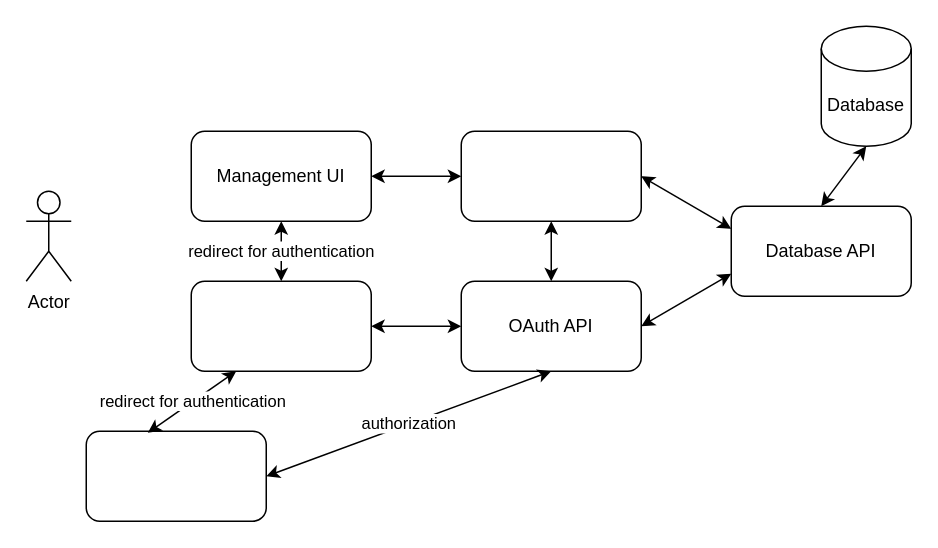
This 938x548 diagram has some shape labels left out. The centre of each missing label's shape, as x and y in pixels:
"3rd party service" belongs at (175,475).
"Management API" belongs at (550,175).
"OAuth UI" belongs at (280,325).
